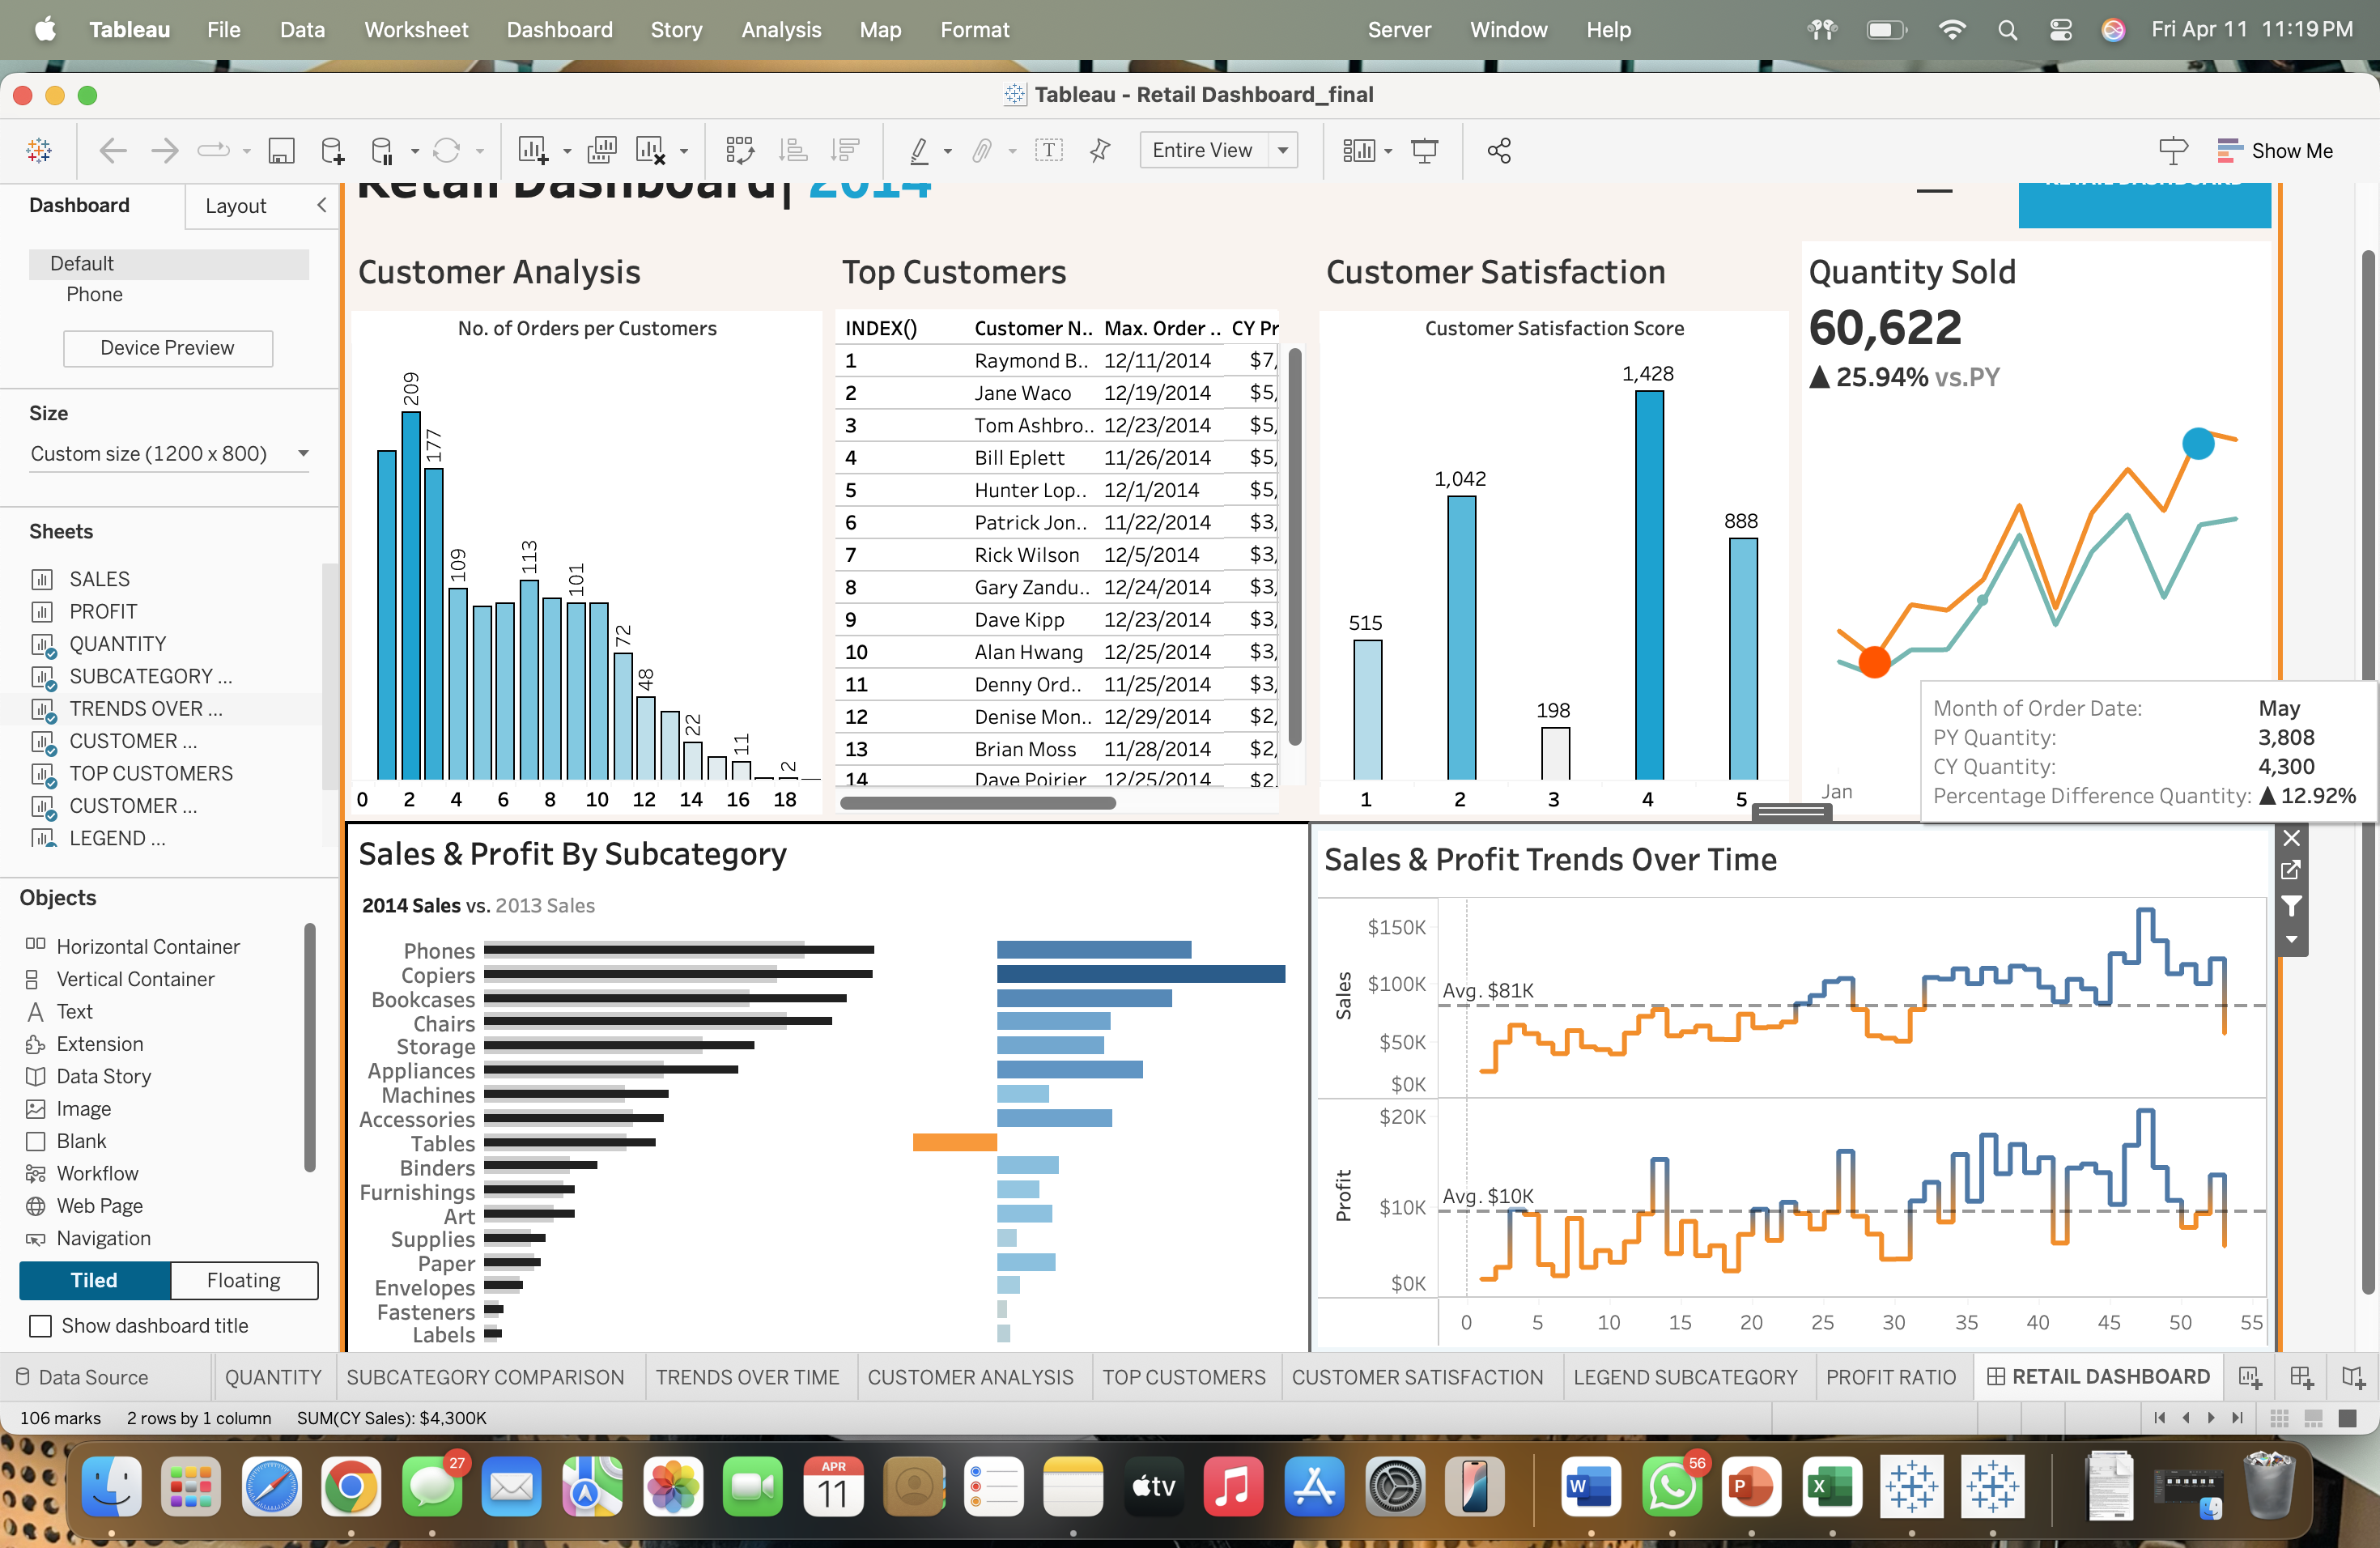

The page's visual inventory and layout, read from the dashboard file:
{"tool":"tableau","page":{"name":"RETAIL DASHBOARD","canvas":[1200,800],"ordinal":0},"visuals":[{"type":"text","box":[3,3,1030,72]},{"type":"dashboard-object","box":[1033,3,164,72]},{"type":"blank","box":[1005,10,182,20]},{"type":"dashboard-object","box":[973,29,24,24]},{"type":"text","box":[1005,30,182,34]},{"type":"parameter","param":"[Parameters].[Parameter 1]","box":[1005,64,182,52]},{"type":"worksheet","title":"CUSTOMER ANALYSIS","mark":"Bar","rows":["Calculation_971933160388608002"],"cols":["Calculation_971933160393355273"],"box":[3,75,299,362]},{"type":"worksheet","title":"TOP CUSTOMERS","mark":"Automatic","rows":["Calculation_971933160399675406","Customer Name","Order Date"],"box":[302,75,299,362]},{"type":"worksheet","title":"CUSTOMER SATISFACTION","mark":"Bar","rows":["Calculation_971933160388608002"],"cols":["Calculation_971933160383647745"],"box":[601,75,298,362]},{"type":"worksheet","title":"QUANTITY","mark":"Automatic","rows":["Calculation_405042552516509712"],"cols":["Order Date"],"box":[899,75,298,362]},{"type":"blank","box":[1005,116,182,15]},{"type":"text","box":[1005,131,182,29]},{"type":"filter","title":"CUSTOMER ANALYSIS","param":"[federated.0qnqpfy05ydman1a37w3b1gy5bmn].[none:Category:nk]","box":[1005,160,182,52]},{"type":"filter","title":"CUSTOMER ANALYSIS","param":"[federated.0qnqpfy05ydman1a37w3b1gy5bmn].[none:Sub-Category:nk]","box":[1005,212,182,52]},{"type":"blank","box":[1005,264,182,15]},{"type":"text","box":[1005,279,182,29]},{"type":"filter","title":"CUSTOMER ANALYSIS","param":"[federated.0qnqpfy05ydman1a37w3b1gy5bmn].[none:Region:nk]","box":[1005,308,182,52]},{"type":"filter","title":"CUSTOMER ANALYSIS","param":"[federated.0qnqpfy05ydman1a37w3b1gy5bmn].[none:State:nk]","box":[1005,360,182,52]},{"type":"text","box":[5,439,595,34]},{"type":"worksheet","title":"TRENDS OVER TIME","mark":"Automatic","rows":["Calculation_405042552456712192","Calculation_405042552485670921"],"cols":["Order Date"],"box":[600,439,595,327]},{"type":"worksheet","title":"LEGEND SUBCATEGORY","mark":"Automatic","box":[5,473,595,32]},{"type":"worksheet","title":"SUBCATEGORY COMPARISON","mark":"Bar","rows":["Sub-Category"],"cols":["2014 Sales (copy)_405042552457625601","Calculation_405042552456712192","Calculation_405042552485670921"],"box":[5,505,595,261]}]}

Visuals, with their boxes on the page's 1200x800 design canvas (x1, y1, x2, y2). These are canvas units, not pixel positions in the 2380x1548 screenshot, which may show the page scaled, cropped or inside an application window:
text: Rect(3, 3, 1033, 75)
dashboard-object: Rect(1033, 3, 1197, 75)
blank: Rect(1005, 10, 1187, 30)
dashboard-object: Rect(973, 29, 997, 53)
text: Rect(1005, 30, 1187, 64)
parameter: Rect(1005, 64, 1187, 116)
"CUSTOMER ANALYSIS" worksheet (Bar marks): Rect(3, 75, 302, 437)
"TOP CUSTOMERS" worksheet: Rect(302, 75, 601, 437)
"CUSTOMER SATISFACTION" worksheet (Bar marks): Rect(601, 75, 899, 437)
"QUANTITY" worksheet: Rect(899, 75, 1197, 437)
blank: Rect(1005, 116, 1187, 131)
text: Rect(1005, 131, 1187, 160)
"CUSTOMER ANALYSIS" filter: Rect(1005, 160, 1187, 212)
"CUSTOMER ANALYSIS" filter: Rect(1005, 212, 1187, 264)
blank: Rect(1005, 264, 1187, 279)
text: Rect(1005, 279, 1187, 308)
"CUSTOMER ANALYSIS" filter: Rect(1005, 308, 1187, 360)
"CUSTOMER ANALYSIS" filter: Rect(1005, 360, 1187, 412)
text: Rect(5, 439, 600, 473)
"TRENDS OVER TIME" worksheet: Rect(600, 439, 1195, 766)
"LEGEND SUBCATEGORY" worksheet: Rect(5, 473, 600, 505)
"SUBCATEGORY COMPARISON" worksheet (Bar marks): Rect(5, 505, 600, 766)
